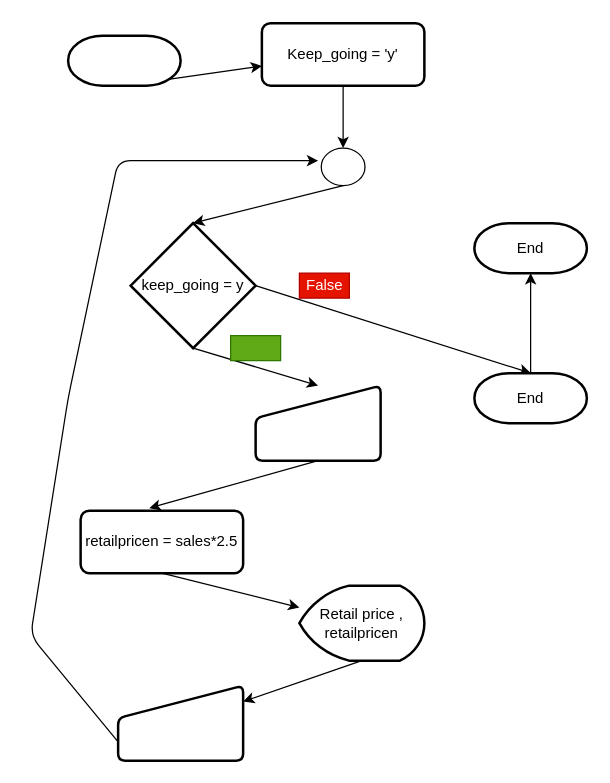
Image size: 610x783. Some labels were removed from this diagram. The centre of each missing label's shape, as x and y in pixels:
"Keep_going" belongs at (x=180, y=722).
"sales" belongs at (x=317, y=422).
"Start" belongs at (x=123, y=60).
"True" belongs at (x=255, y=347).
